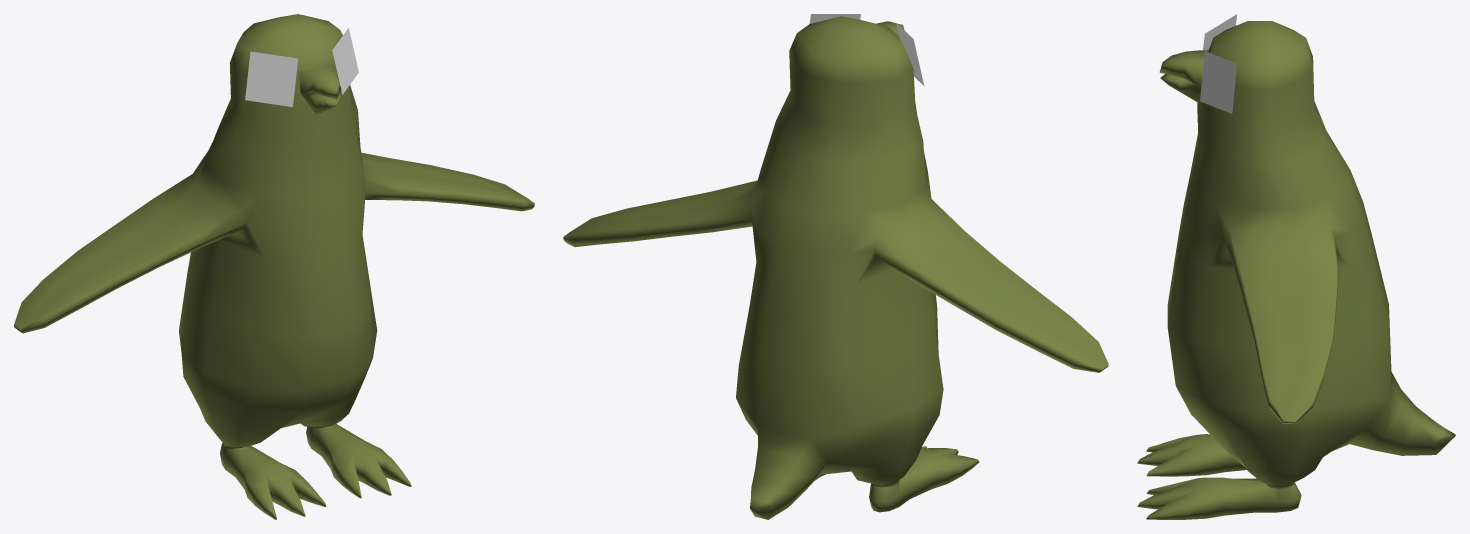
The model's file is MESH_FigPenguin06.fbx.
3 renders of one model, left to right at view 1: azimuth 30°, elevation 25°; view 2: azimuth 150°, elevation 25°; view 3: azimuth 270°, elevation 25°, orthographic. The views are drawn at different scales.
Visible parts, largest first — view 1: MESH_FIGPENGUIN6; view 2: MESH_FIGPENGUIN6; view 3: MESH_FIGPENGUIN6.
Boxes of the visible parts, x1=… form: MESH_FIGPENGUIN6: x1=14, y1=14, x2=534, y2=519; MESH_FIGPENGUIN6: x1=563, y1=14, x2=1108, y2=519; MESH_FIGPENGUIN6: x1=1137, y1=14, x2=1455, y2=519.
Size of the model in its own units: 142 by 116 by 73.5.
